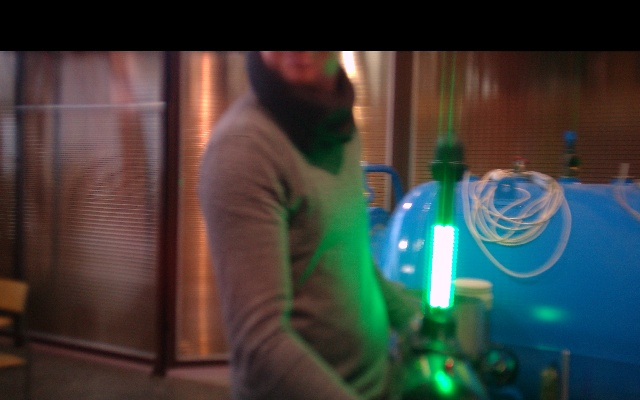green: (425, 223, 457, 308)
